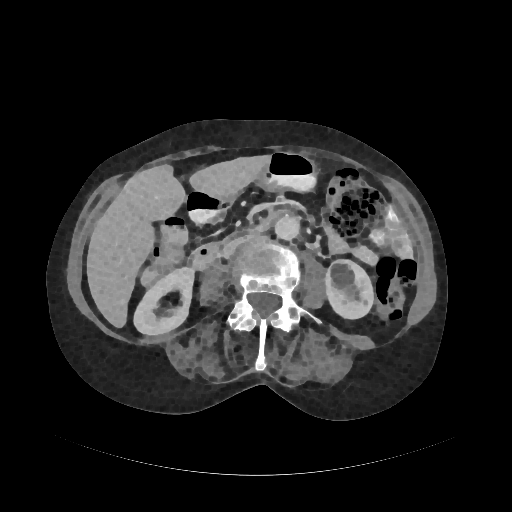Lesion: (329, 258, 360, 292)
